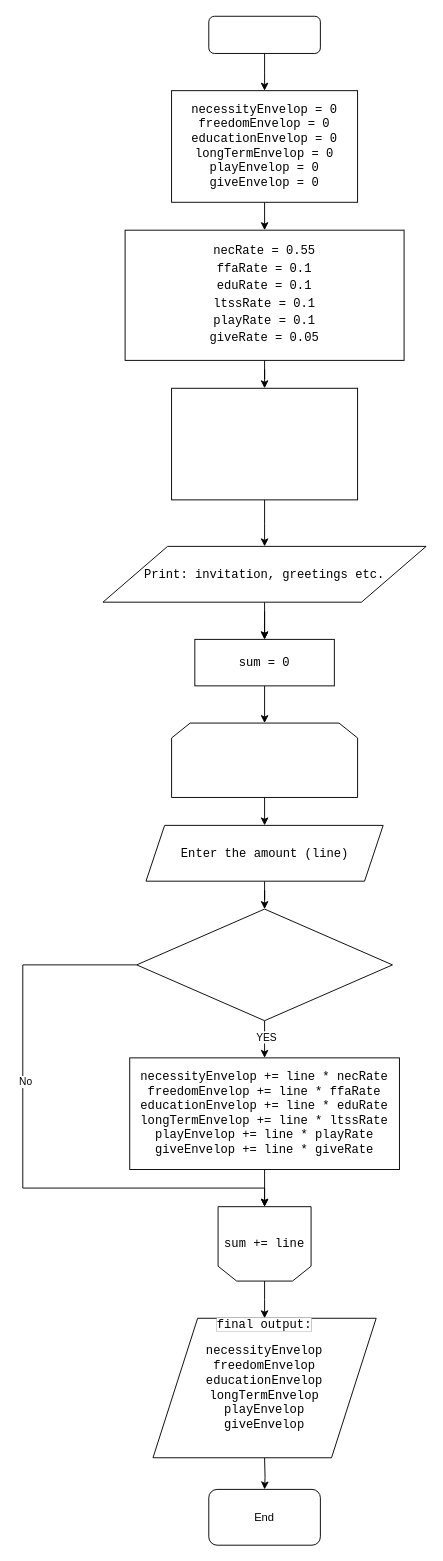
Some shapes in this 443 by 1561 pixel diagram are drawn without their labels. The shapes that lost their labels are listed below. From the top down, each one's centre as x and y in pixels, then its label:
At point (264, 34): "Start".
At point (264, 443): "expectedIncome = 1000".
At point (264, 759): "sum < expectedIncome".
At point (264, 964): "sum + line < expectedIncome".
